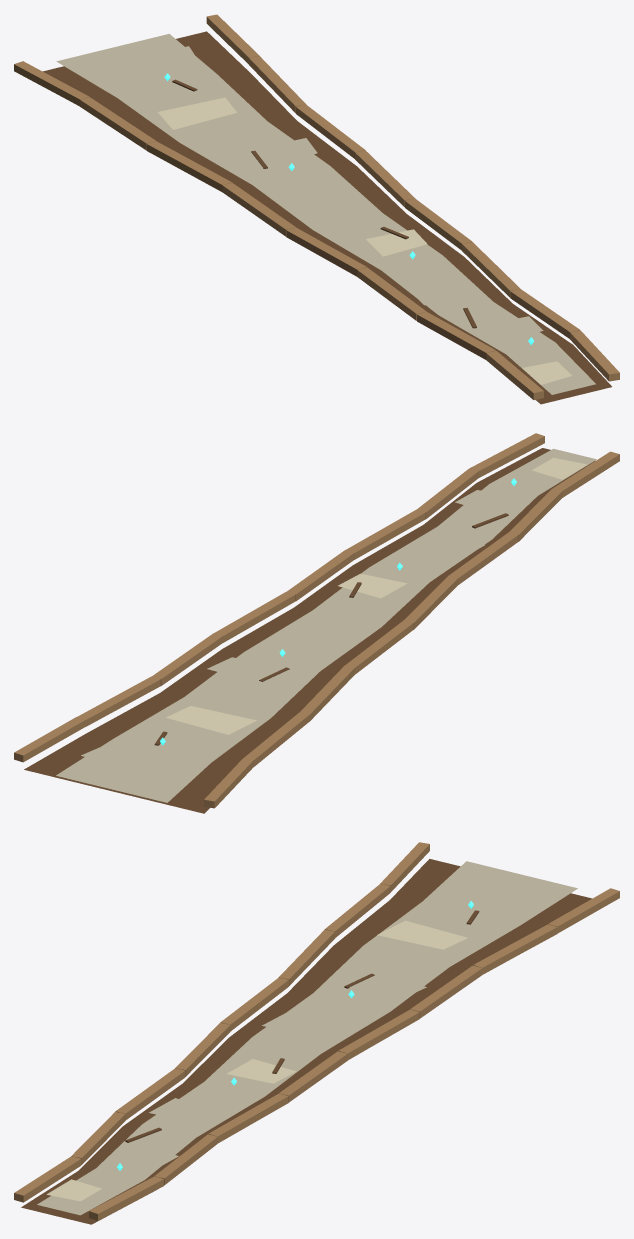
The model's file is elarthalas_rootroad.glb.
3 renders of one model, top to bottom at view 1: azimuth 30°, elevation 25°; view 2: azimuth 150°, elevation 25°; view 3: azimuth 330°, elevation 25°, orthographic.
Visible parts, largest first — view 1: PREFAB_elarthalas_rootroad_01_ELAR_Terrain_SacredRootroad_Mo, PREFAB_elarthalas_rootroad_00_ELAR_Terrain_SacredRootroad_Ta, PREFAB_elarthalas_rootroad_09_ELAR_Terrain_SacredRootroad_Un, PREFAB_elarthalas_rootroad_07_ELAR_Terrain_SacredRootroad_Un, PREFAB_elarthalas_rootroad_08_ELAR_Terrain_SacredRootroad_Un, PREFAB_elarthalas_rootroad_19_ELAR_Terrain_SacredRootroad_Br, PREFAB_elarthalas_rootroad_06_ELAR_Terrain_SacredRootroad_Un, PREFAB_elarthalas_rootroad_17_ELAR_Terrain_SacredRootroad_Br, PREFAB_elarthalas_rootroad_20_ELAR_Terrain_SacredRootroad_Br, PREFAB_elarthalas_rootroad_15_ELAR_Terrain_SacredRootroad_Br, PREFAB_elarthalas_rootroad_18_ELAR_Terrain_SacredRootroad_Br, PREFAB_elarthalas_rootroad_27_ELAR_Terrain_SacredRootroad_Br (+14 smaller); view 2: PREFAB_elarthalas_rootroad_01_ELAR_Terrain_SacredRootroad_Mo, PREFAB_elarthalas_rootroad_00_ELAR_Terrain_SacredRootroad_Ta, PREFAB_elarthalas_rootroad_09_ELAR_Terrain_SacredRootroad_Un, PREFAB_elarthalas_rootroad_07_ELAR_Terrain_SacredRootroad_Un, PREFAB_elarthalas_rootroad_08_ELAR_Terrain_SacredRootroad_Un, PREFAB_elarthalas_rootroad_06_ELAR_Terrain_SacredRootroad_Un, PREFAB_elarthalas_rootroad_28_ELAR_Terrain_SacredRootroad_Br, PREFAB_elarthalas_rootroad_26_ELAR_Terrain_SacredRootroad_Br, PREFAB_elarthalas_rootroad_24_ELAR_Terrain_SacredRootroad_Br, PREFAB_elarthalas_rootroad_27_ELAR_Terrain_SacredRootroad_Br, PREFAB_elarthalas_rootroad_29_ELAR_Terrain_SacredRootroad_Br, PREFAB_elarthalas_rootroad_18_ELAR_Terrain_SacredRootroad_Br (+14 smaller); view 3: PREFAB_elarthalas_rootroad_01_ELAR_Terrain_SacredRootroad_Mo, PREFAB_elarthalas_rootroad_00_ELAR_Terrain_SacredRootroad_Ta, PREFAB_elarthalas_rootroad_09_ELAR_Terrain_SacredRootroad_Un, PREFAB_elarthalas_rootroad_08_ELAR_Terrain_SacredRootroad_Un, PREFAB_elarthalas_rootroad_07_ELAR_Terrain_SacredRootroad_Un, PREFAB_elarthalas_rootroad_28_ELAR_Terrain_SacredRootroad_Br, PREFAB_elarthalas_rootroad_06_ELAR_Terrain_SacredRootroad_Un, PREFAB_elarthalas_rootroad_26_ELAR_Terrain_SacredRootroad_Br, PREFAB_elarthalas_rootroad_24_ELAR_Terrain_SacredRootroad_Br, PREFAB_elarthalas_rootroad_22_ELAR_Terrain_SacredRootroad_Br, PREFAB_elarthalas_rootroad_27_ELAR_Terrain_SacredRootroad_Br, PREFAB_elarthalas_rootroad_16_ELAR_Terrain_SacredRootroad_Br (+14 smaller).
Part boxes in pixels (bbox=[...]): PREFAB_elarthalas_rootroad_01_ELAR_Terrain_SacredRootroad_Mo: bbox=[56, 33, 595, 394]; PREFAB_elarthalas_rootroad_00_ELAR_Terrain_SacredRootroad_Ta: bbox=[43, 31, 611, 404]; PREFAB_elarthalas_rootroad_09_ELAR_Terrain_SacredRootroad_Un: bbox=[106, 46, 198, 82]; PREFAB_elarthalas_rootroad_07_ELAR_Terrain_SacredRootroad_Un: bbox=[235, 138, 317, 171]; PREFAB_elarthalas_rootroad_08_ELAR_Terrain_SacredRootroad_Un: bbox=[158, 97, 236, 129]; PREFAB_elarthalas_rootroad_19_ELAR_Terrain_SacredRootroad_Br: bbox=[146, 141, 231, 191]; PREFAB_elarthalas_rootroad_06_ELAR_Terrain_SacredRootroad_Un: bbox=[286, 188, 357, 218]; PREFAB_elarthalas_rootroad_17_ELAR_Terrain_SacredRootroad_Br: bbox=[286, 227, 366, 276]; PREFAB_elarthalas_rootroad_20_ELAR_Terrain_SacredRootroad_Br: bbox=[80, 97, 155, 150]; PREFAB_elarthalas_rootroad_15_ELAR_Terrain_SacredRootroad_Br: bbox=[417, 311, 495, 359]; PREFAB_elarthalas_rootroad_18_ELAR_Terrain_SacredRootroad_Br: bbox=[222, 182, 295, 236]; PREFAB_elarthalas_rootroad_27_ELAR_Terrain_SacredRootroad_Br: bbox=[296, 105, 365, 158]; PREFAB_elarthalas_rootroad_01_ELAR_Terrain_SacredRootroad_Mo: bbox=[56, 448, 596, 802]; PREFAB_elarthalas_rootroad_00_ELAR_Terrain_SacredRootroad_Ta: bbox=[24, 448, 595, 813]; PREFAB_elarthalas_rootroad_09_ELAR_Terrain_SacredRootroad_Un: bbox=[81, 744, 188, 776]; PREFAB_elarthalas_rootroad_07_ELAR_Terrain_SacredRootroad_Un: bbox=[207, 657, 301, 686]; PREFAB_elarthalas_rootroad_08_ELAR_Terrain_SacredRootroad_Un: bbox=[166, 706, 256, 734]; PREFAB_elarthalas_rootroad_06_ELAR_Terrain_SacredRootroad_Un: bbox=[290, 618, 371, 645]; PREFAB_elarthalas_rootroad_28_ELAR_Terrain_SacredRootroad_Br: bbox=[77, 676, 160, 726]; PREFAB_elarthalas_rootroad_26_ELAR_Terrain_SacredRootroad_Br: bbox=[215, 591, 295, 642]; PREFAB_elarthalas_rootroad_24_ELAR_Terrain_SacredRootroad_Br: bbox=[346, 509, 425, 559]; PREFAB_elarthalas_rootroad_27_ELAR_Terrain_SacredRootroad_Br: bbox=[152, 633, 223, 685]; PREFAB_elarthalas_rootroad_29_ELAR_Terrain_SacredRootroad_Br: bbox=[14, 717, 85, 762]; PREFAB_elarthalas_rootroad_18_ELAR_Terrain_SacredRootroad_Br: bbox=[345, 620, 413, 674]; PREFAB_elarthalas_rootroad_01_ELAR_Terrain_SacredRootroad_Mo: bbox=[37, 861, 577, 1215]; PREFAB_elarthalas_rootroad_00_ELAR_Terrain_SacredRootroad_Ta: bbox=[21, 859, 591, 1224]; PREFAB_elarthalas_rootroad_09_ELAR_Terrain_SacredRootroad_Un: bbox=[445, 878, 552, 910]; PREFAB_elarthalas_rootroad_08_ELAR_Terrain_SacredRootroad_Un: bbox=[377, 920, 467, 949]; PREFAB_elarthalas_rootroad_07_ELAR_Terrain_SacredRootroad_Un: bbox=[332, 969, 426, 998]; PREFAB_elarthalas_rootroad_28_ELAR_Terrain_SacredRootroad_Br: bbox=[473, 924, 557, 974]; PREFAB_elarthalas_rootroad_06_ELAR_Terrain_SacredRootroad_Un: bbox=[262, 1011, 343, 1038]; PREFAB_elarthalas_rootroad_26_ELAR_Terrain_SacredRootroad_Br: bbox=[338, 1009, 419, 1059]; PREFAB_elarthalas_rootroad_24_ELAR_Terrain_SacredRootroad_Br: bbox=[208, 1093, 288, 1142]; PREFAB_elarthalas_rootroad_22_ELAR_Terrain_SacredRootroad_Br: bbox=[89, 1176, 163, 1220]; PREFAB_elarthalas_rootroad_27_ELAR_Terrain_SacredRootroad_Br: bbox=[410, 965, 482, 1018]; PREFAB_elarthalas_rootroad_16_ELAR_Terrain_SacredRootroad_Br: bbox=[115, 1068, 185, 1119].
Bounding box in the file's own units: 8.42 × 0.7 × 33.61.
